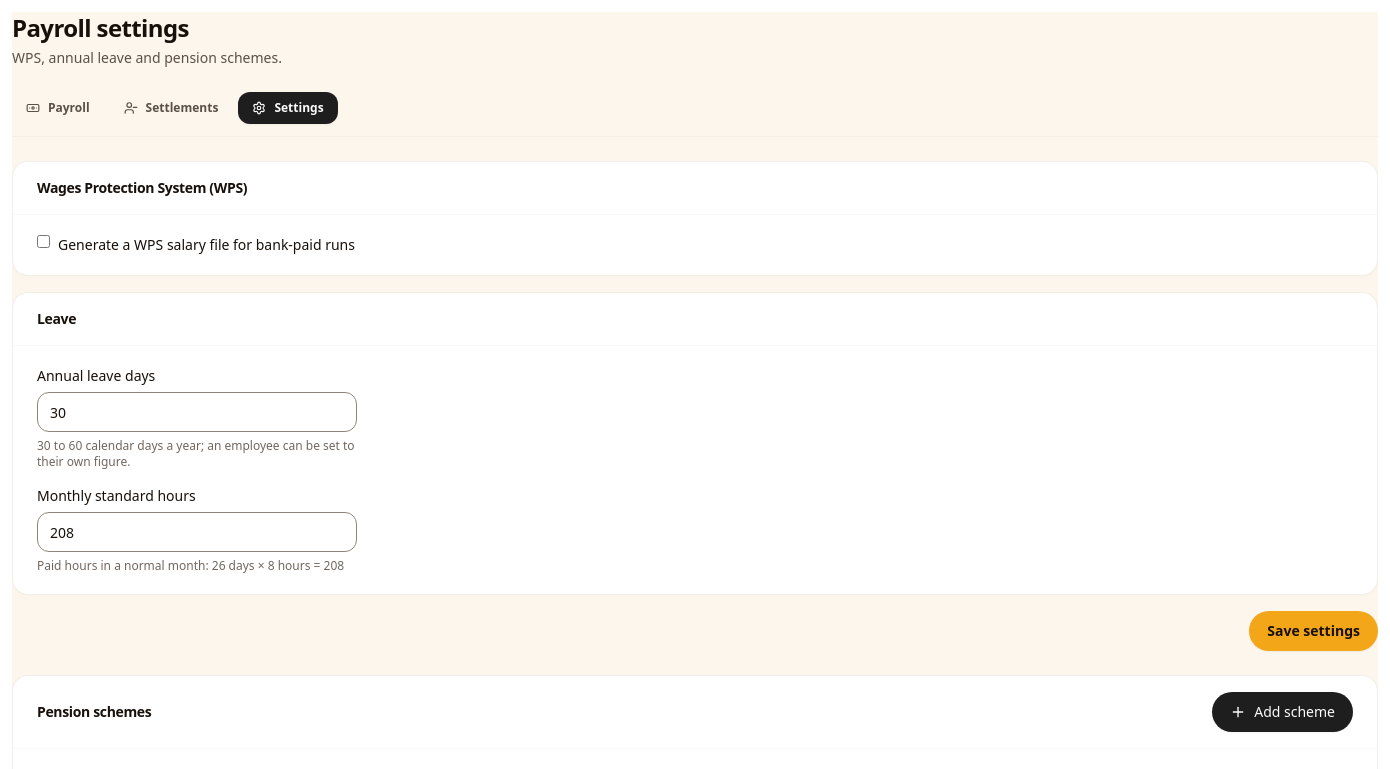
Scenario: PayrollSettingsView › treats a cleared standard hours field as a validation error, not a reset to 0 or 208
The width and height of the screenshot is (1390, 769).
Clear the number field labelled "Monthly standard hours" at (197,532), box [37, 512, 357, 552]
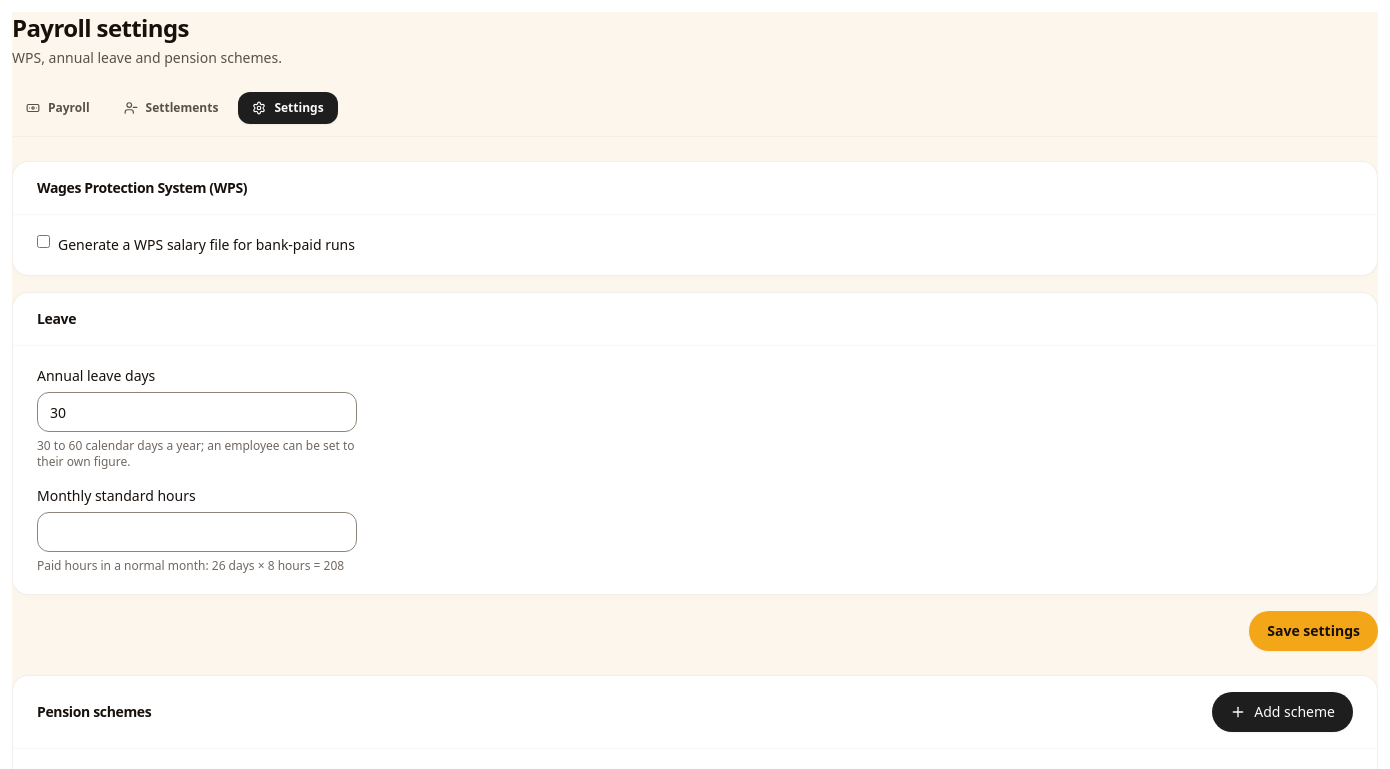
Submit the form with test id "payroll-settings-form"
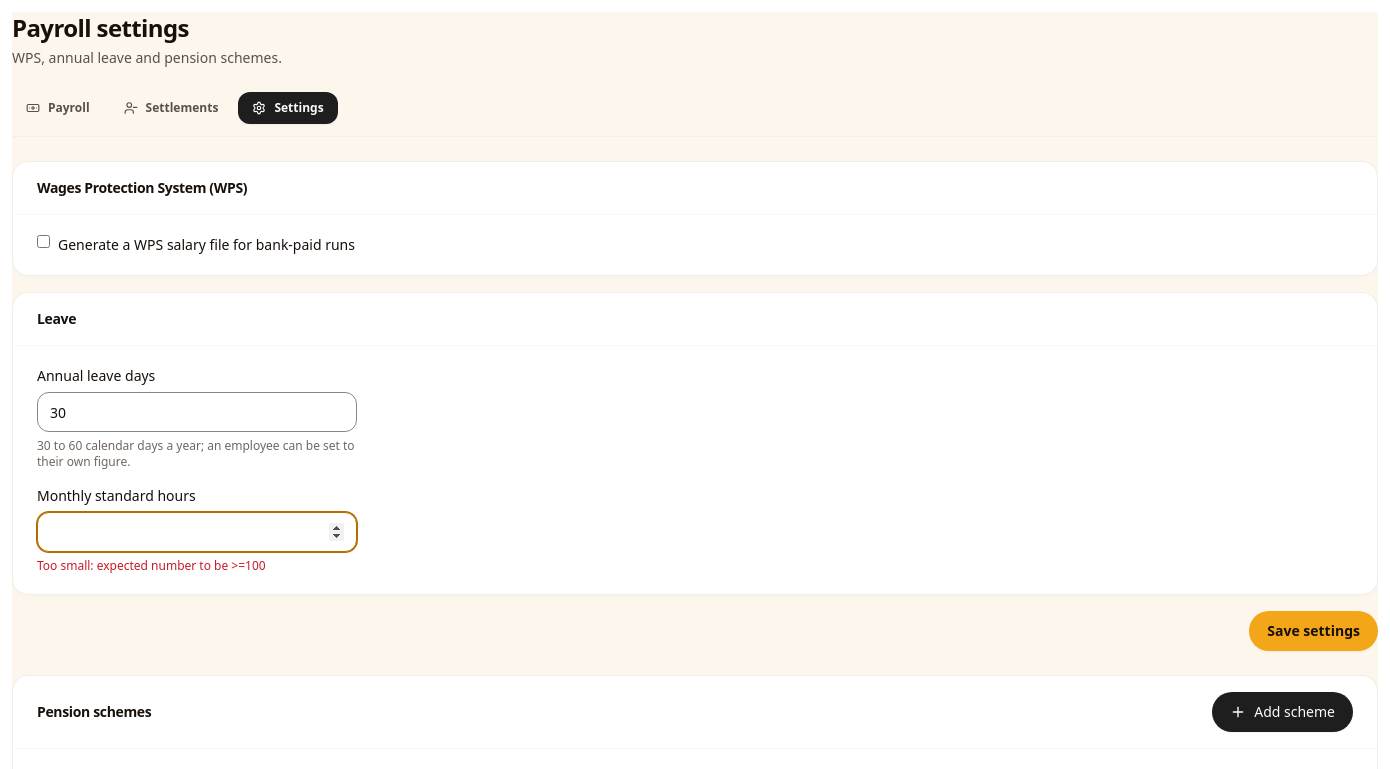
Expected: the text "Too small: expected number to be >=100" is shown, [37, 557, 266, 574]
